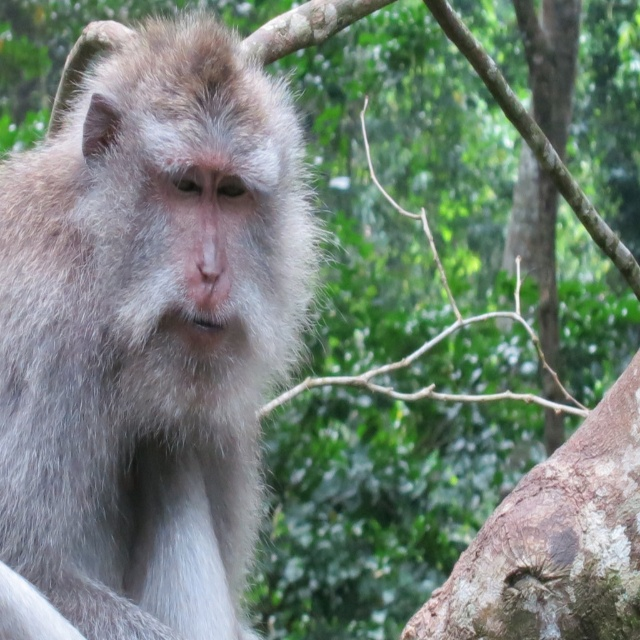Monkey: (0, 0, 349, 640)
